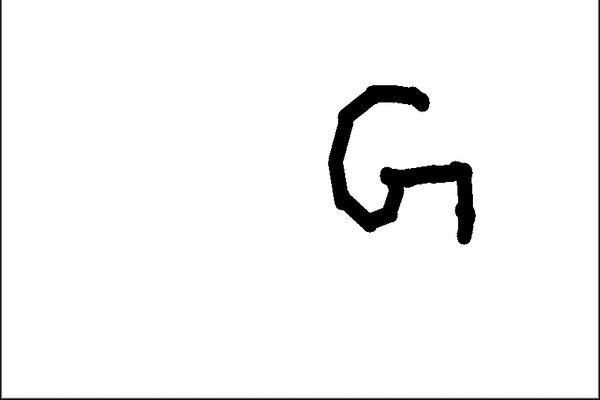G: (322, 82, 480, 248)
